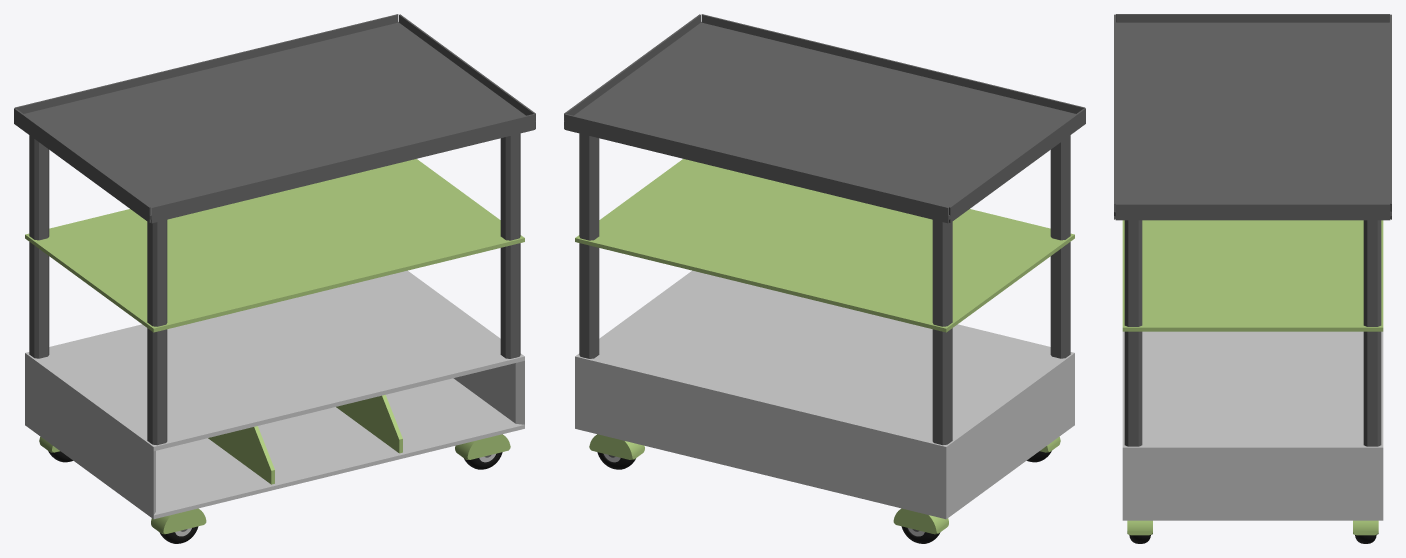
Rendered from Table.fbx.
3 views of the same model, side by side, from view 1: azimuth 30°, elevation 25°; view 2: azimuth 150°, elevation 25°; view 3: azimuth 270°, elevation 25° (orthographic).
Visible parts, largest first — view 1: Cube, Cube_1, Cube_2, Cube_1_2, Cube_1_3, Cylinder_1, Cylinder; view 2: Cube, Cube_1, Cube_2, Cube_1_2, Cylinder_1, Cylinder; view 3: Cube_1, Cube, Cube_2, Cube_1_2, Cylinder_1.
Part boxes in pixels (x1,y1,x2,y2): Cube: (25,270,524,519); Cube_1: (14,14,535,223); Cube_2: (25,159,524,332); Cube_1_2: (29,133,520,445); Cube_1_3: (208,395,402,484); Cylinder_1: (39,434,510,534); Cylinder: (48,451,502,543); Cube: (575,270,1074,519); Cube_1: (564,14,1085,223); Cube_2: (575,159,1074,332); Cube_1_2: (579,133,1070,445); Cylinder_1: (589,434,1060,534); Cylinder: (597,451,1051,543); Cube_1: (1114,14,1391,220); Cube: (1122,331,1383,520); Cube_2: (1122,220,1383,331); Cube_1_2: (1124,220,1381,446); Cylinder_1: (1127,520,1378,535).
Bounding box in the file's own units: 104 × 90.93 × 64.
